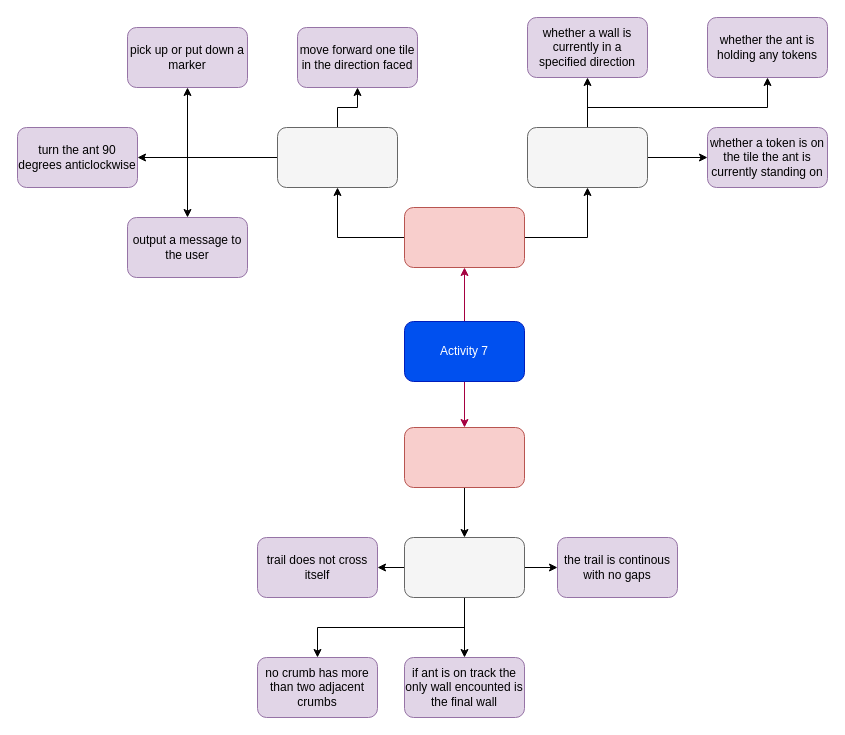
Some shapes in this 845 by 735 pixel diagram are drawn without their labels. Here are the shapes that lost their labels. From the top down, the centre of each, then its label:
At point 337,157: "Outputs".
At point 587,157: "Inputs".
At point 464,237: "Roboant Imposed Restrictions".
At point 464,457: "Activity Imposed Restrictions".
At point 464,567: "Trail Structure".
